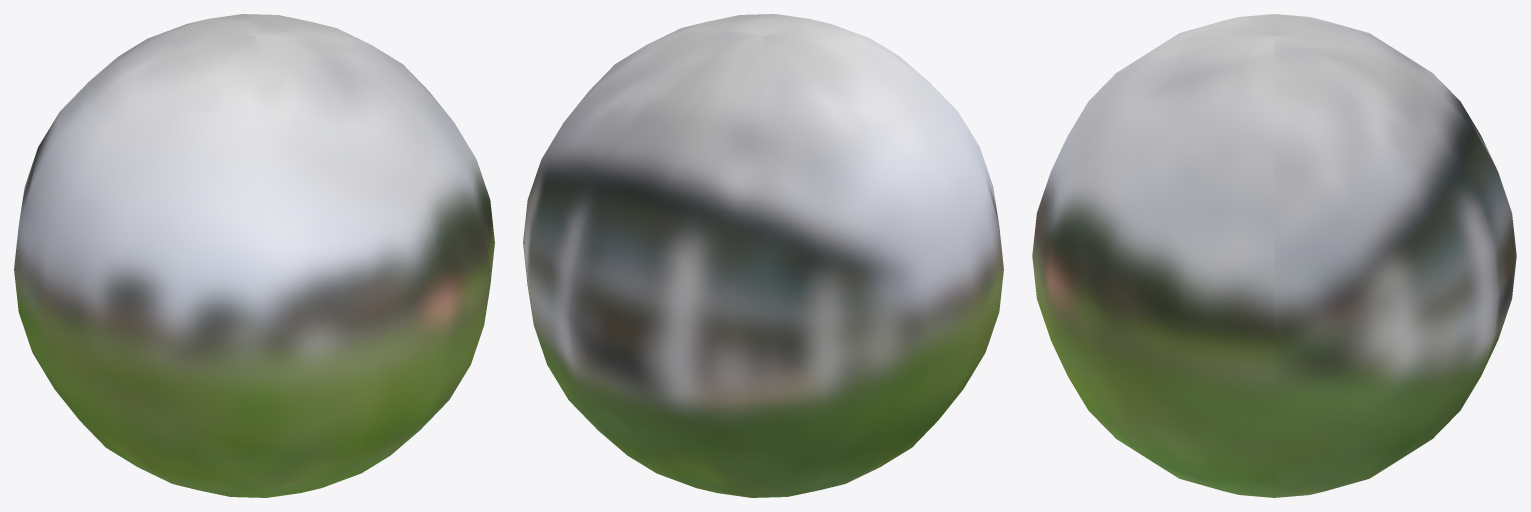
The model's file is SM_SkySphere.glb.
3 views of the same model, side by side, from view 1: azimuth 30°, elevation 25°; view 2: azimuth 150°, elevation 25°; view 3: azimuth 270°, elevation 25° (orthographic).
Parts seen in each view (by area): view 1: SM_SkySphere; view 2: SM_SkySphere; view 3: SM_SkySphere.
Boxes of the visible parts, x1=… form: SM_SkySphere: x1=14, y1=14, x2=494, y2=497; SM_SkySphere: x1=523, y1=14, x2=1003, y2=497; SM_SkySphere: x1=1032, y1=14, x2=1516, y2=497.
Size of the model in its own units: 53.94 by 53.94 by 53.94.
Materials: 1 (1 with a texture image).
